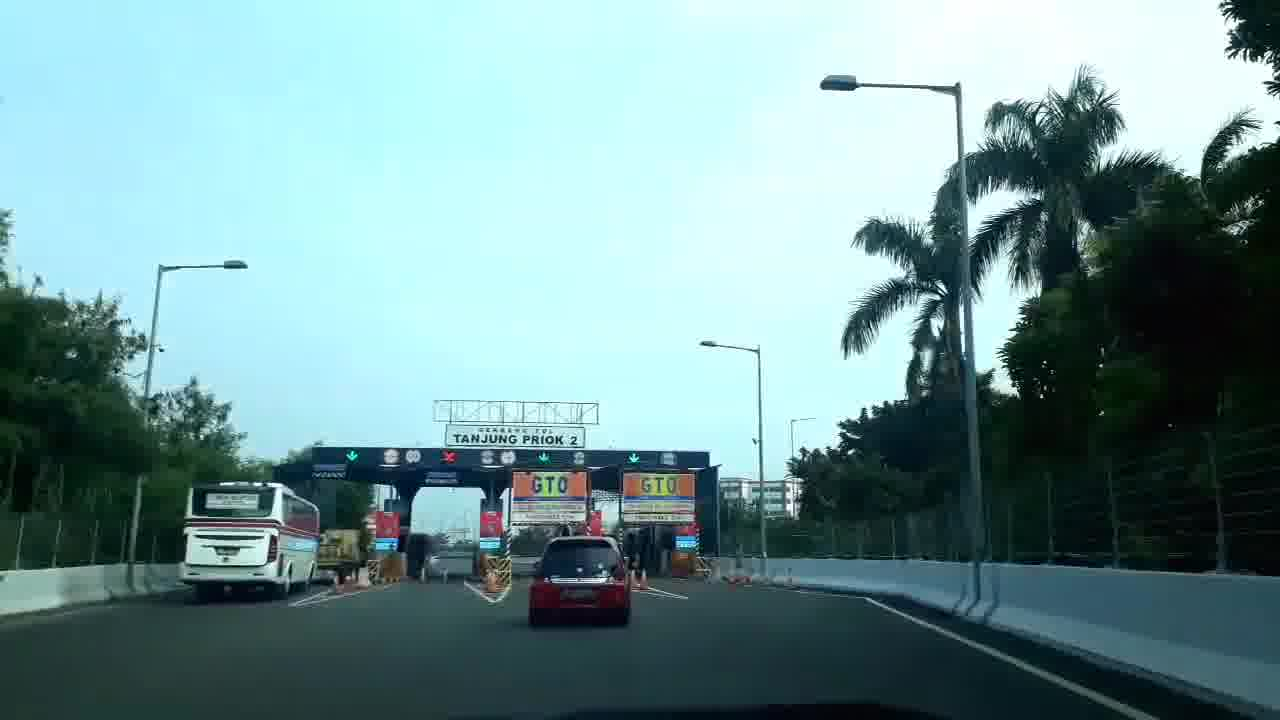plate_positive: (563, 589, 596, 600)
